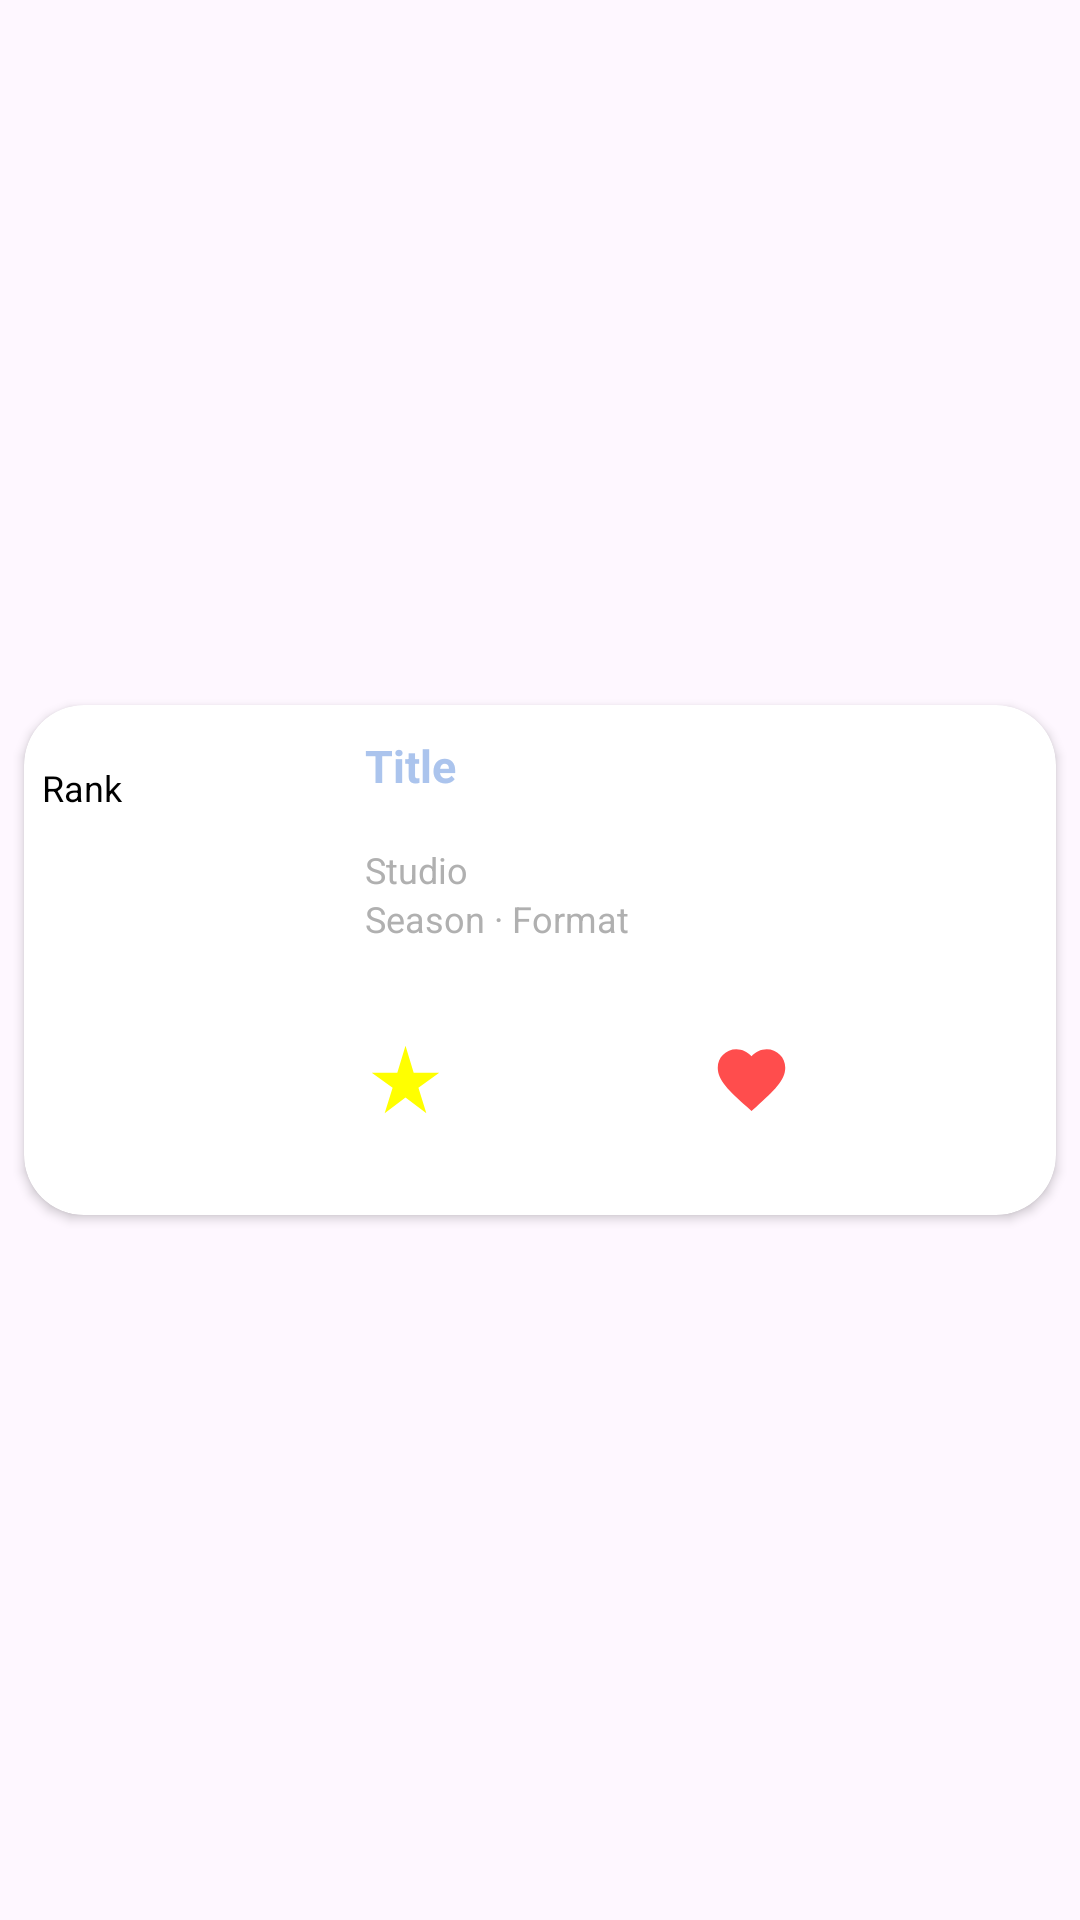

Where icons sit on this 1080×1920 app screen, as {"left": x1, "top": y1, "right": x2, "bottom": y2}:
Heart: {"left": 717, "top": 1049, "right": 786, "bottom": 1111}
